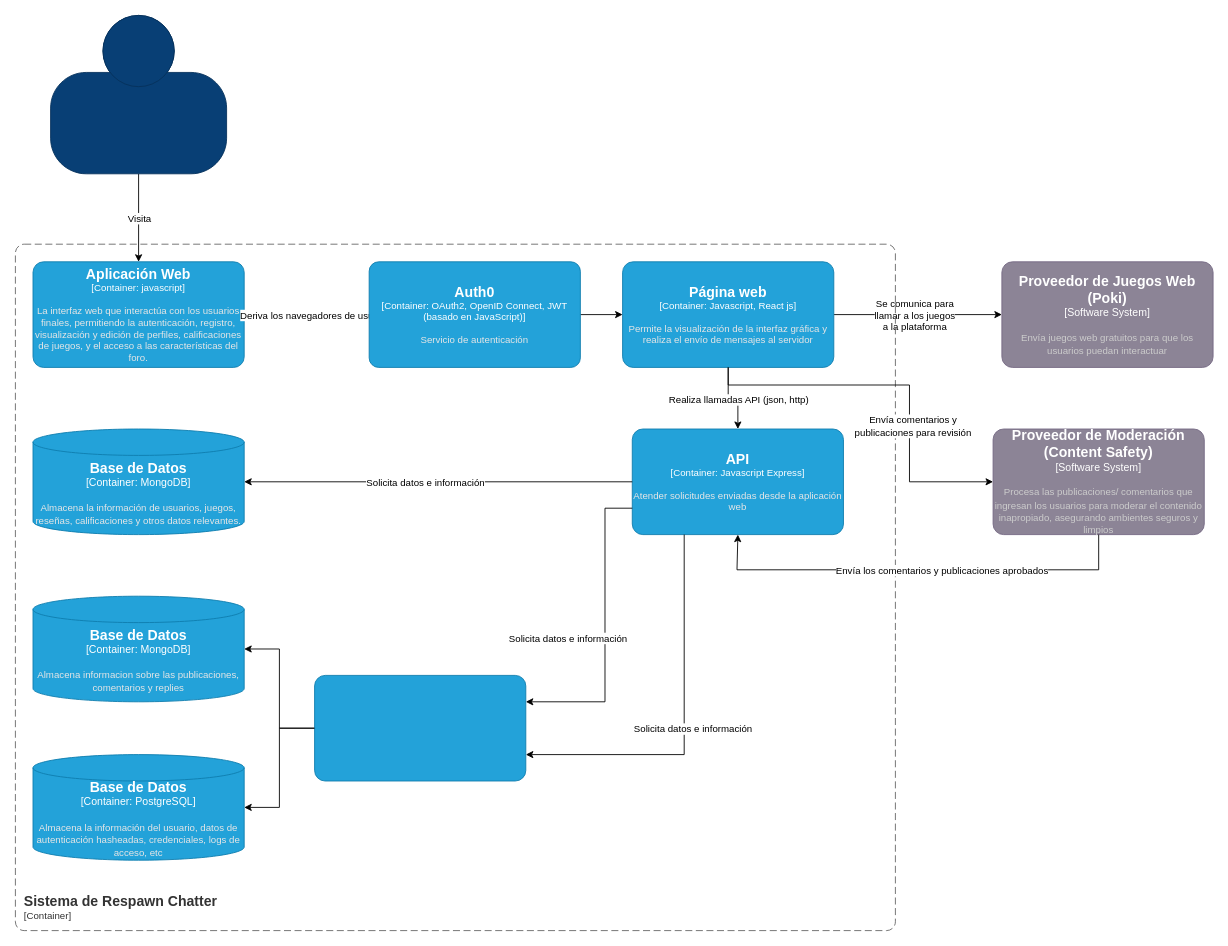
This 1228x946 diagram has some shape labels left out. The centre of each missing label's shape, as x and y in pixels:
Backend [Container: NestJs] Exponer los servicios de módulo de foro, reseñas.: the point at 420,728
Usuario [Person] Un usuario de foro, Respawn Chatter: the point at 138,94
